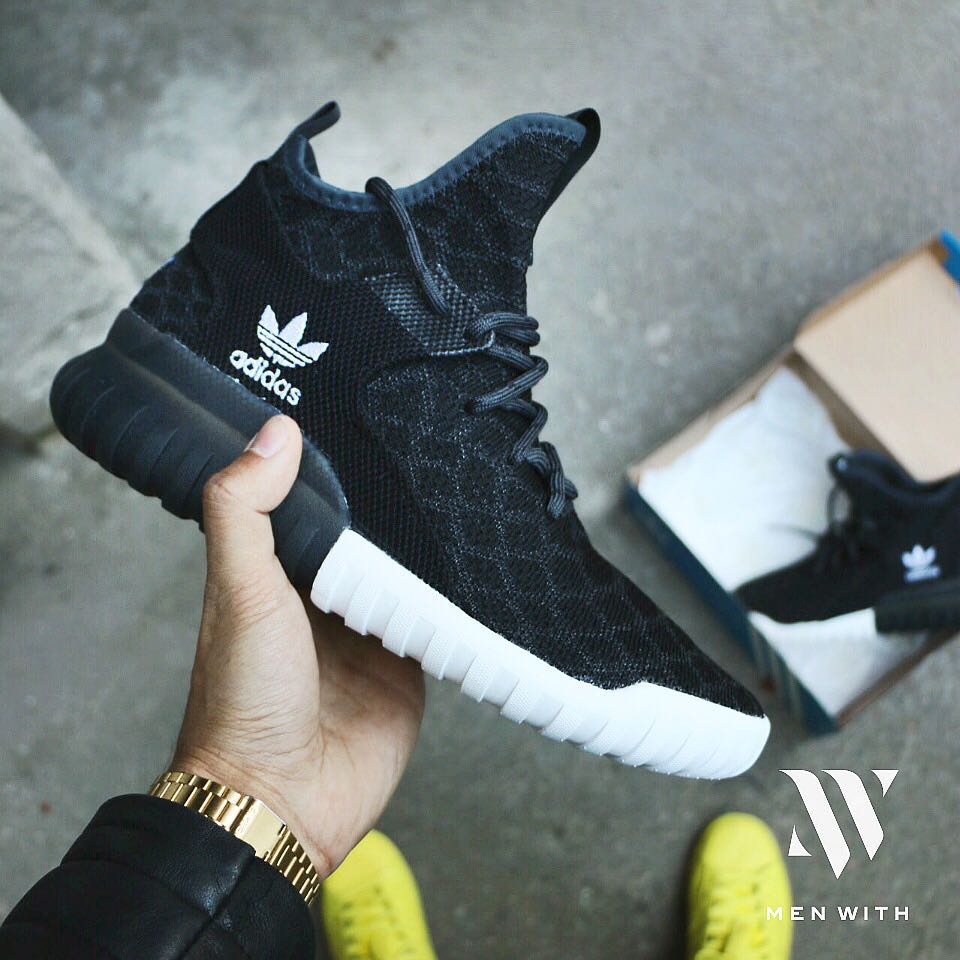sneaker: (664, 795, 813, 960), (312, 807, 440, 960)
